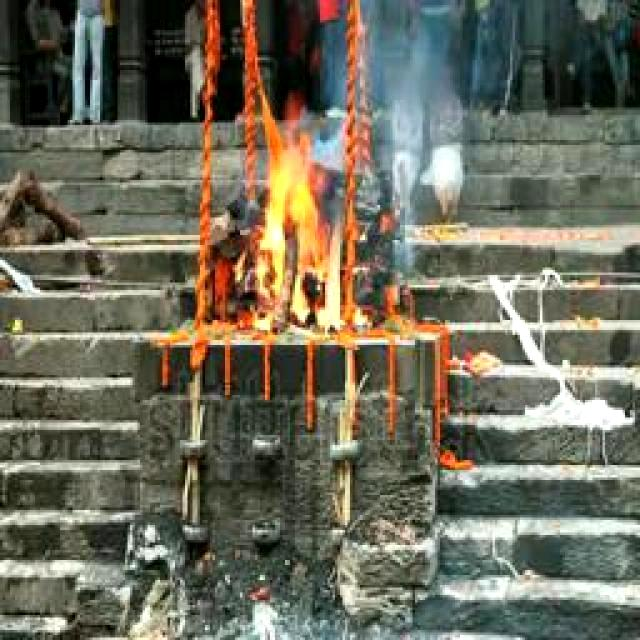fire: (256, 123, 348, 335)
